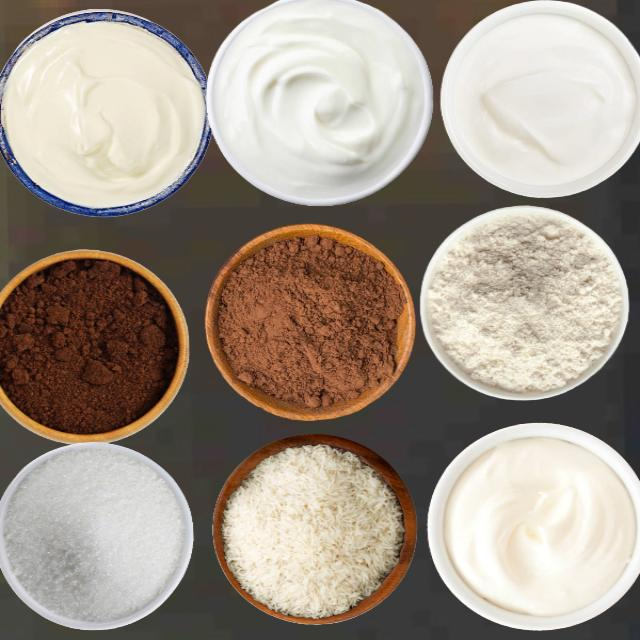Cocoa: (216, 232, 403, 409)
Coffee: (0, 255, 179, 435)
Flour: (426, 212, 622, 393)
Sugar: (1, 445, 185, 622)
